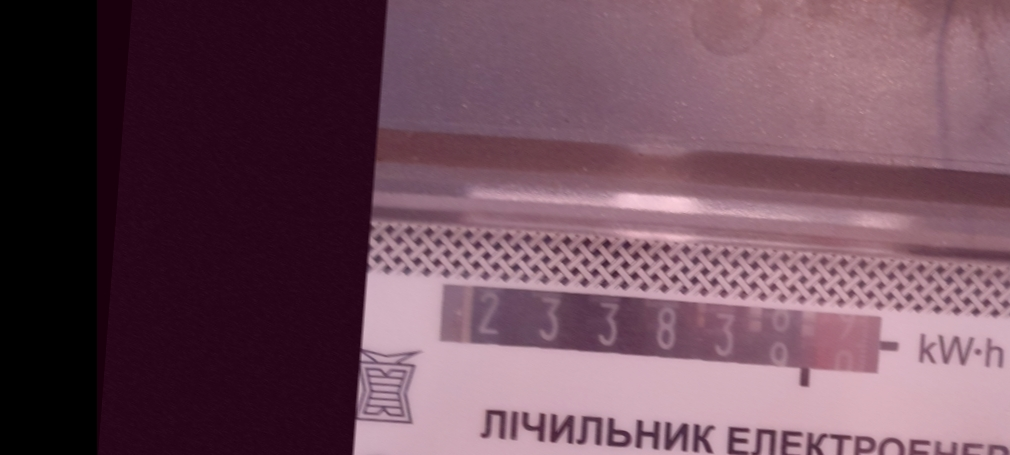0: (835, 348, 858, 376)
2: (478, 291, 506, 339)
3: (535, 294, 568, 345), (593, 299, 626, 350), (713, 311, 740, 359)
8: (653, 305, 683, 353), (771, 308, 796, 336)
9: (836, 311, 860, 343), (769, 339, 792, 370)
screen: (428, 273, 906, 398)
